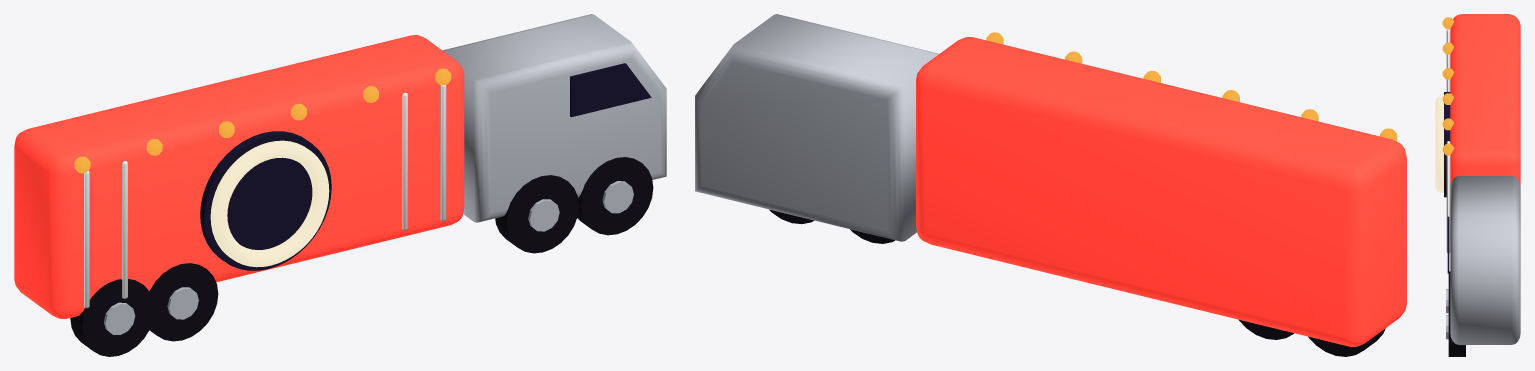
Rendered from boss_lastebilen.glb.
3 views of the same model, side by side, from view 1: azimuth 30°, elevation 25°; view 2: azimuth 150°, elevation 25°; view 3: azimuth 270°, elevation 25° (orthographic). The views are drawn at different scales.
Parts seen in each view (by area): view 1: glb_boss_l20; view 2: glb_boss_l20; view 3: glb_boss_l20.
Part boxes in pixels (x1,y1,x2,y2): glb_boss_l20: (14, 14, 666, 356); glb_boss_l20: (695, 14, 1406, 356); glb_boss_l20: (1435, 14, 1520, 356).
Size of the model in its own units: 2.9 by 0.935 by 0.485.
